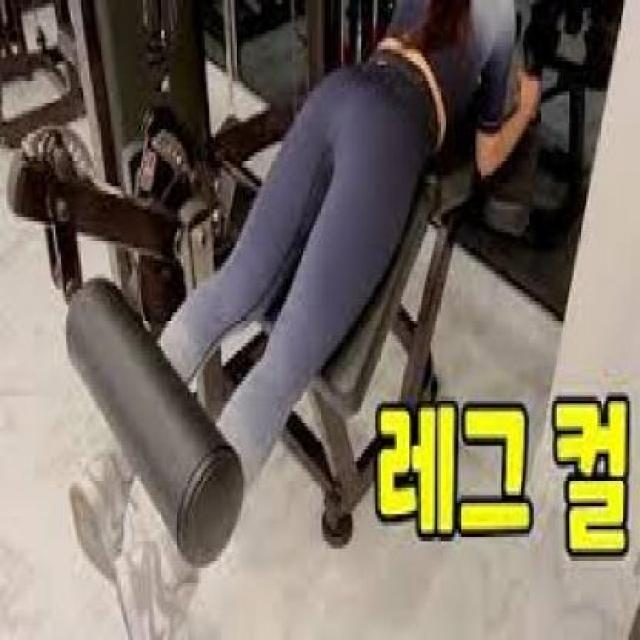reg curl machine: (68, 0, 543, 640)
